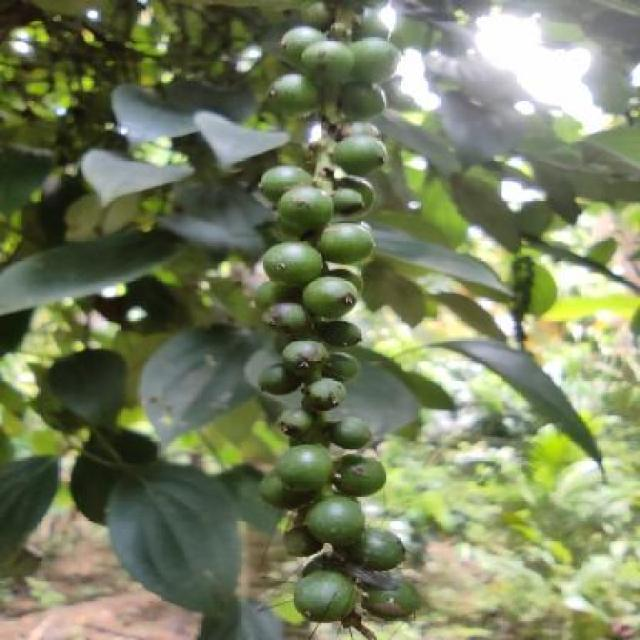UNRIPE: (262, 2, 422, 622)
